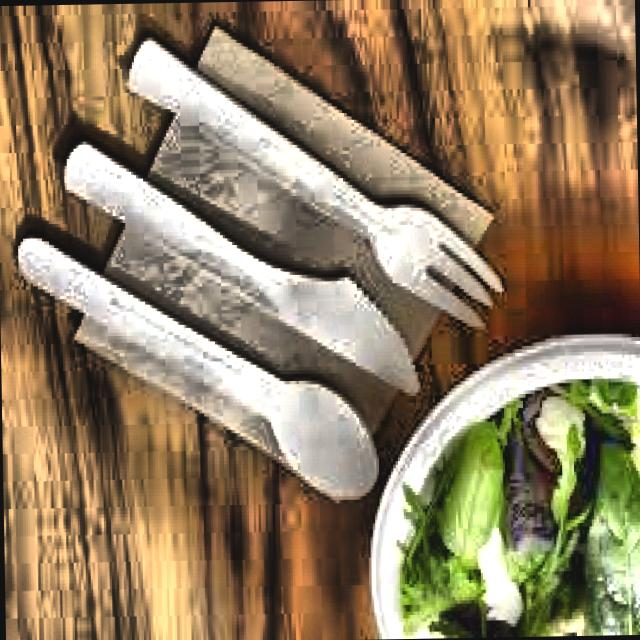plastic utensil: (129, 40, 502, 325), (18, 238, 375, 499), (66, 142, 417, 387)
